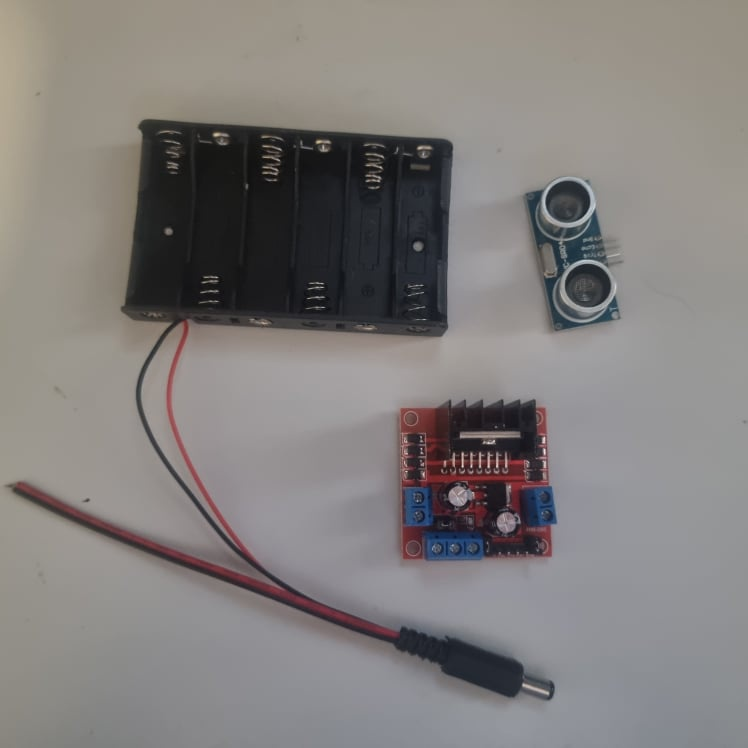BATTERY BOX: (119, 119, 454, 337)
MOTOR: (398, 401, 559, 562)
SENSOR: (521, 176, 631, 335)
